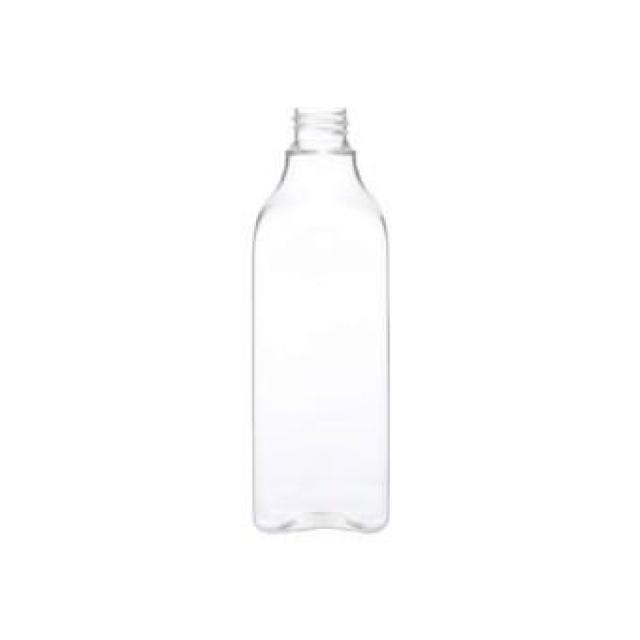bottle: (245, 97, 398, 556)
